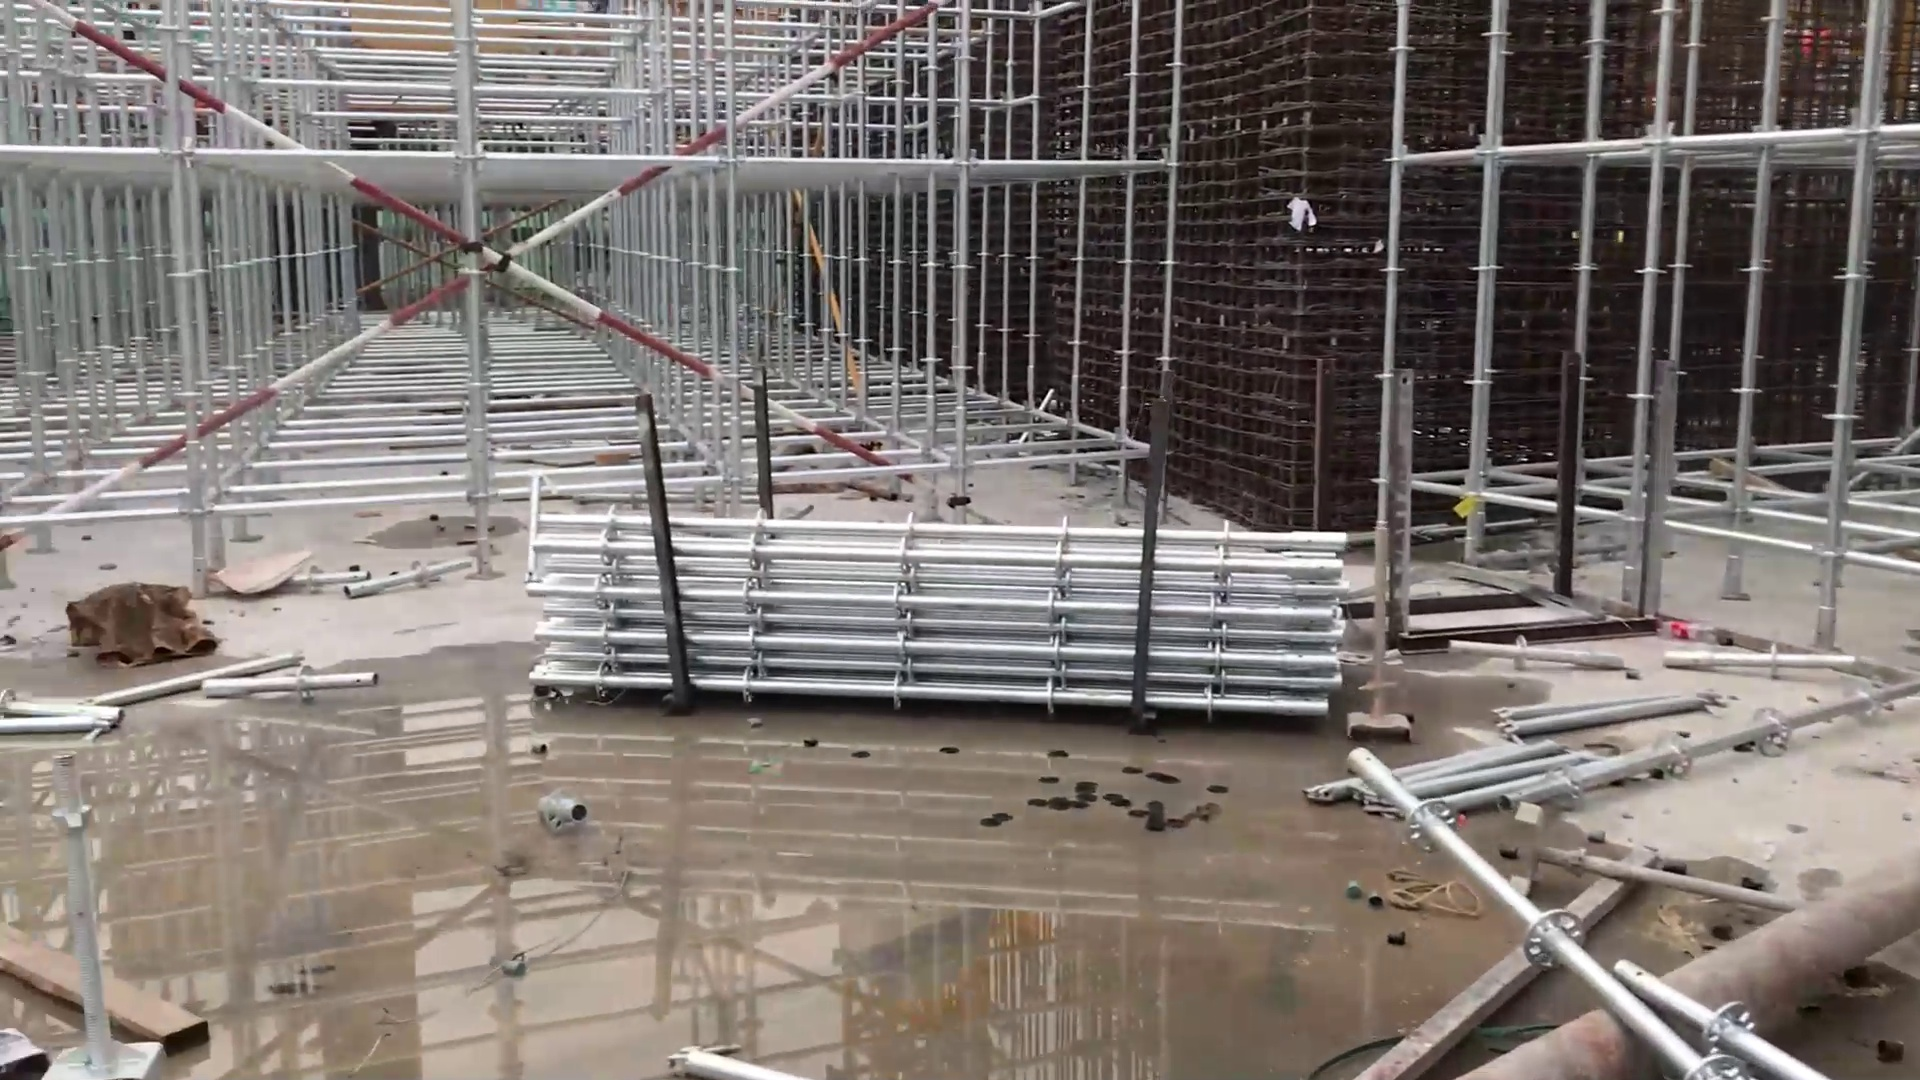scaffold: (517, 504, 1364, 735)
